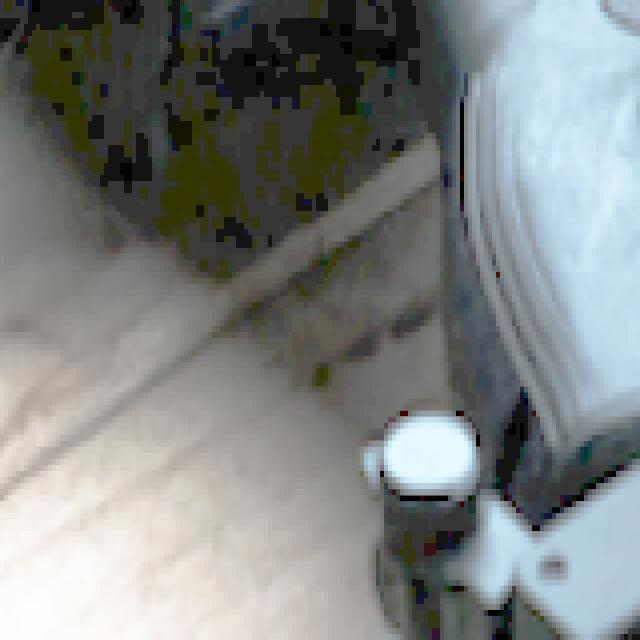arms: (363, 0, 640, 477), (360, 417, 640, 640)
